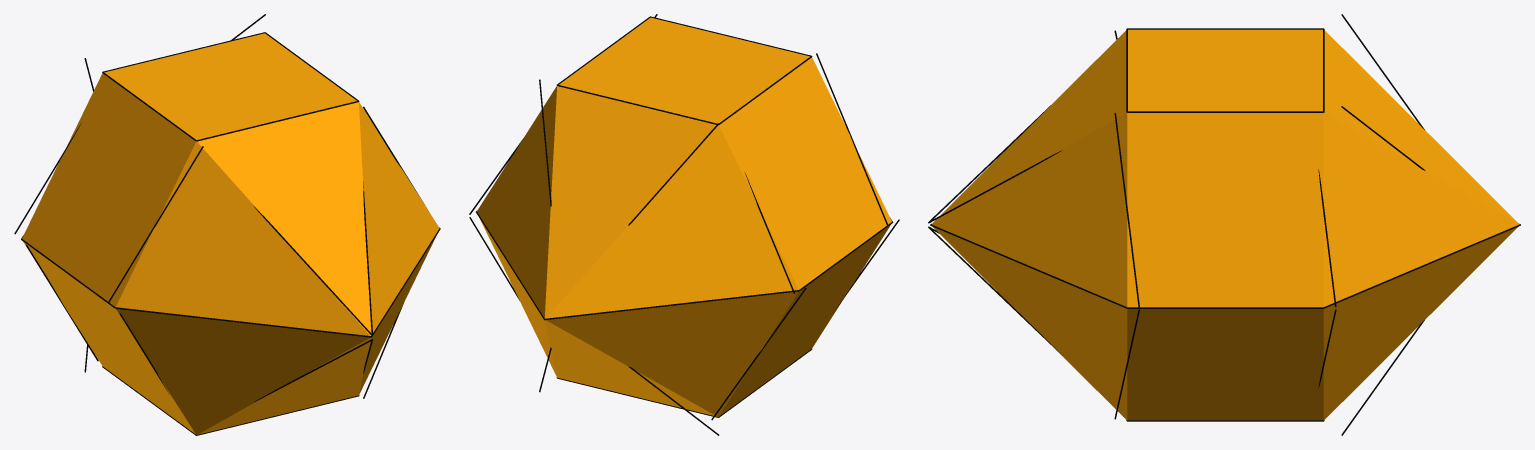
Rendered from SevenFacesPolygon.fbx.
3 views of the same model, side by side, from view 1: azimuth 30°, elevation 25°; view 2: azimuth 150°, elevation 25°; view 3: azimuth 270°, elevation 25° (orthographic). The views are drawn at different scales.
Bounding box in the file's own units: 2.02 × 1.85 × 3.02.
